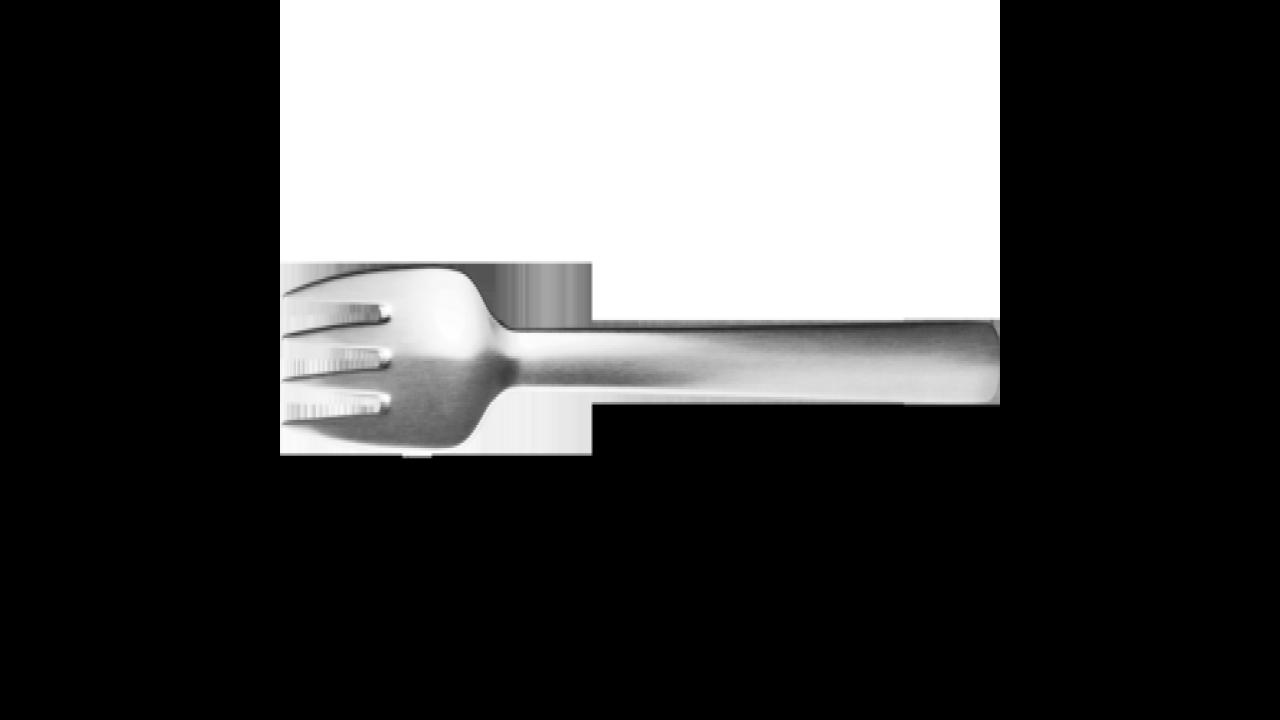fork: (281, 266, 998, 450)
